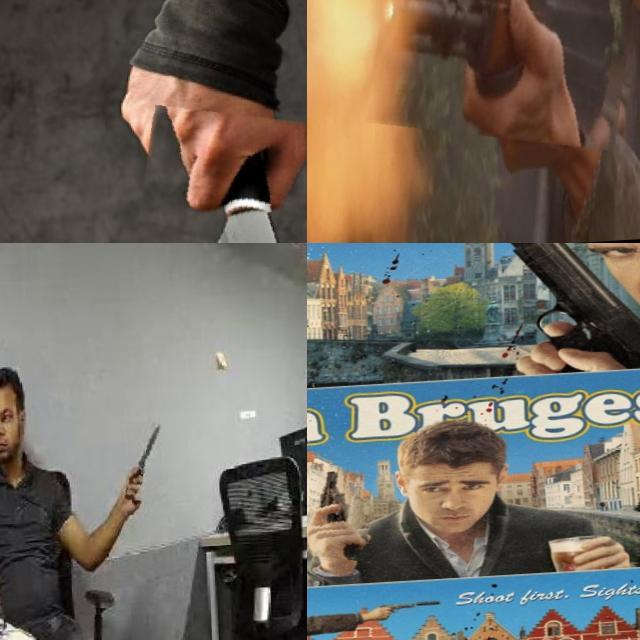-: (103, 105, 307, 243), (123, 424, 160, 506)
gun-knife-thesis - v11 Yolov5 augmented: (365, 0, 635, 156), (480, 243, 640, 388), (307, 464, 373, 564), (361, 601, 440, 628)
